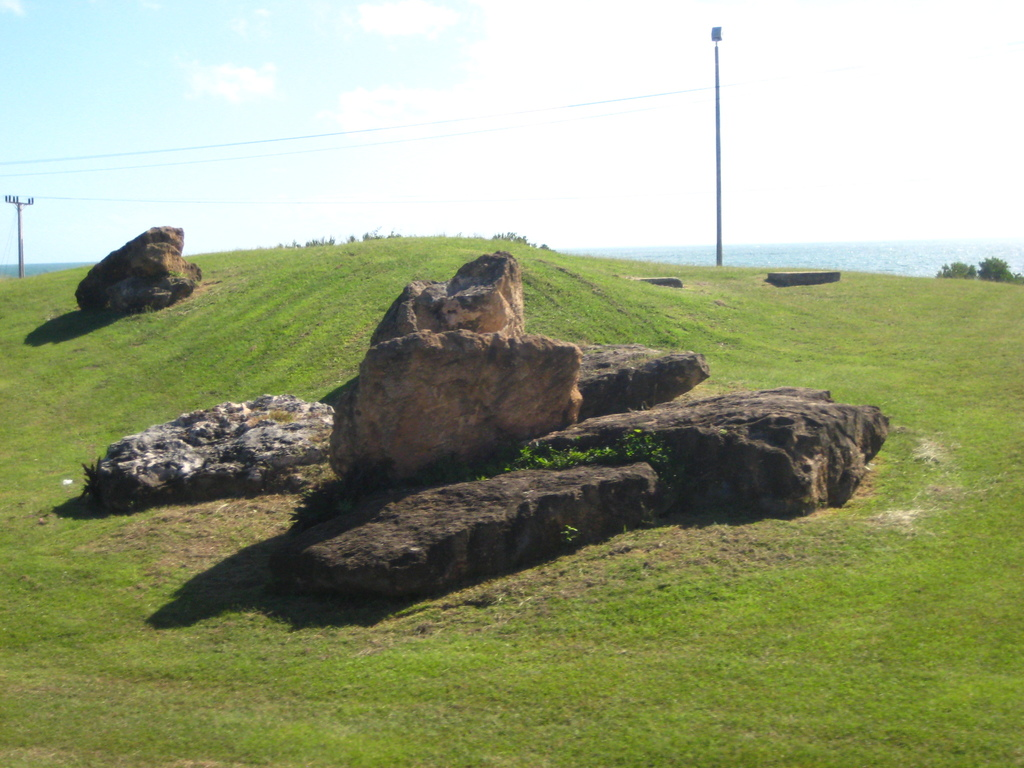Tree: (976, 255, 1021, 280), (935, 261, 977, 278)
